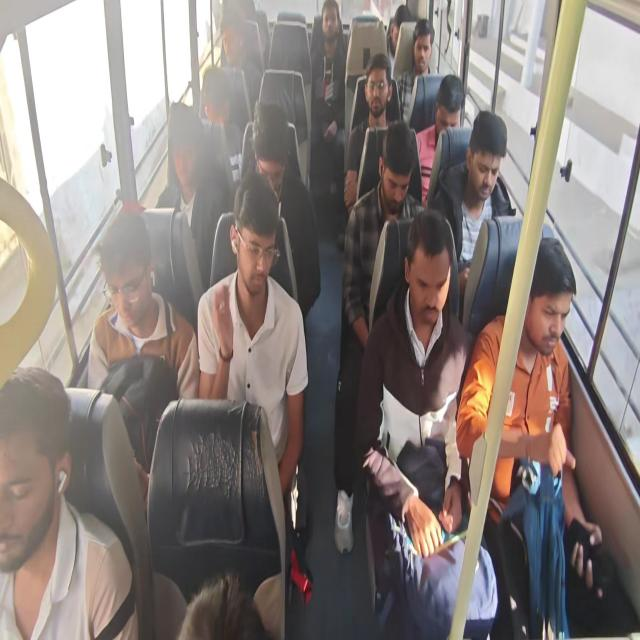person: (0, 374, 69, 576), (99, 217, 162, 329), (522, 252, 573, 358), (232, 190, 278, 292), (412, 218, 452, 329), (250, 111, 288, 203), (168, 110, 202, 210), (379, 130, 414, 212), (200, 68, 230, 138), (473, 133, 502, 200), (362, 68, 396, 118), (218, 20, 247, 72), (438, 83, 463, 141), (413, 25, 433, 75), (388, 9, 411, 52), (319, 3, 341, 45), (232, 0, 262, 23)
